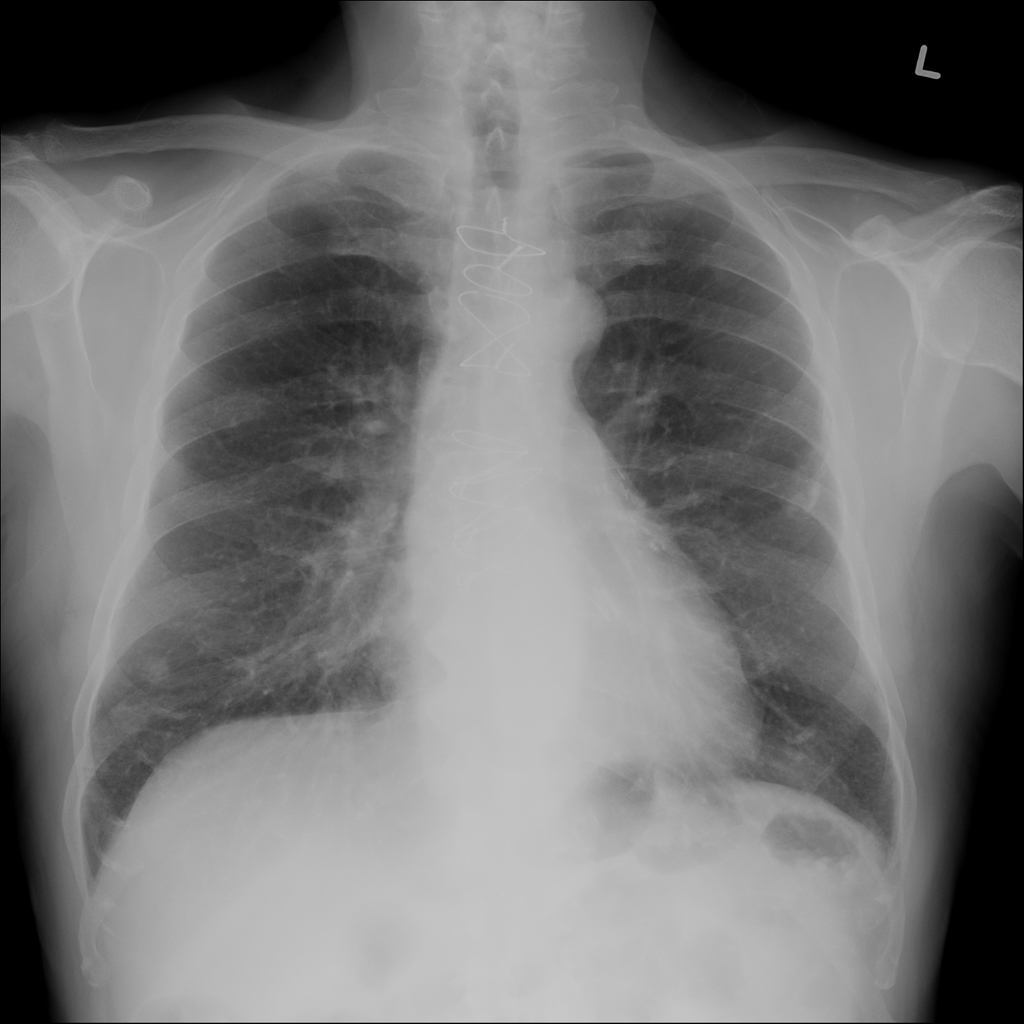cancer: (222, 218, 497, 684)
